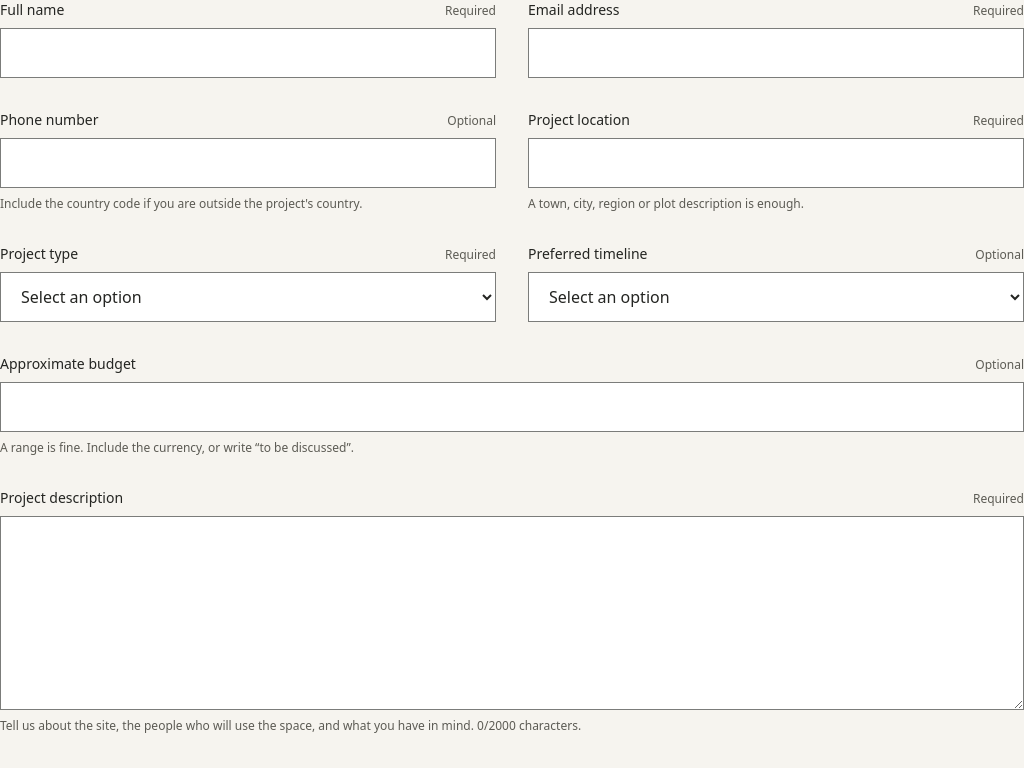
it: ContactForm with a submission service › reports a service error honestly and keeps the visitor's answers
Type "Amina Otieno" into the field labelled "Full name Required" at (248, 53), box [0,28,496,78]
Type "amina@example.com" into the field labelled "Email address Required" at (776, 53), box [528,28,1023,78]
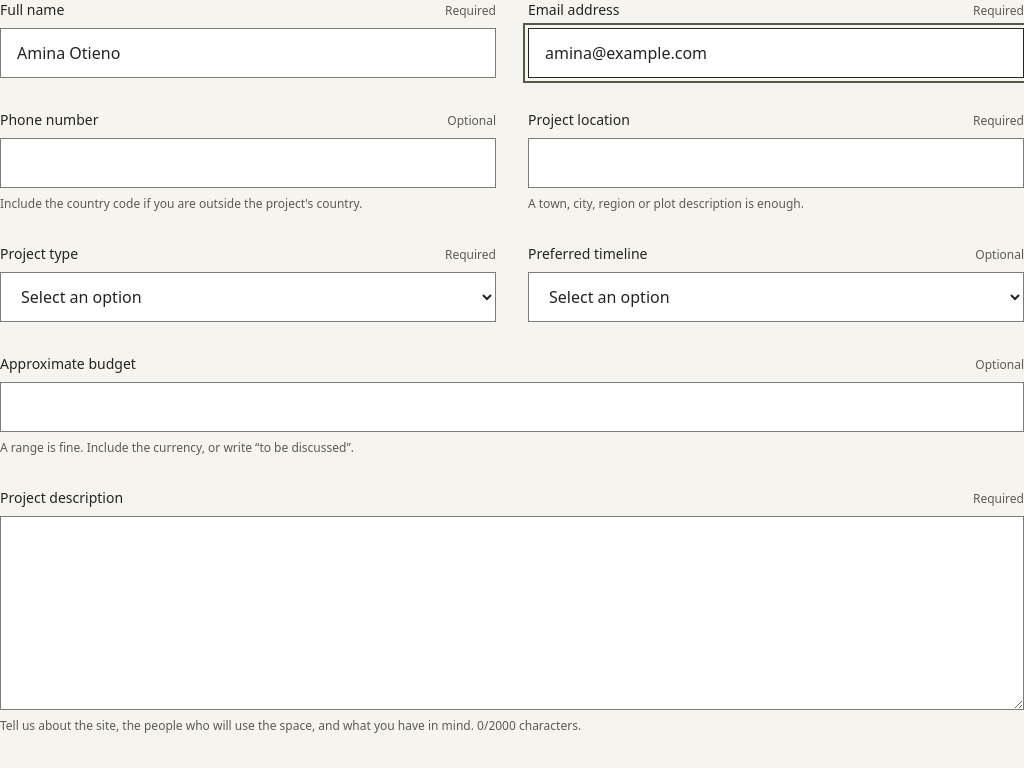
Type "Nairobi" into the field labelled "Project location Required" at (776, 163), box [528,138,1023,188]
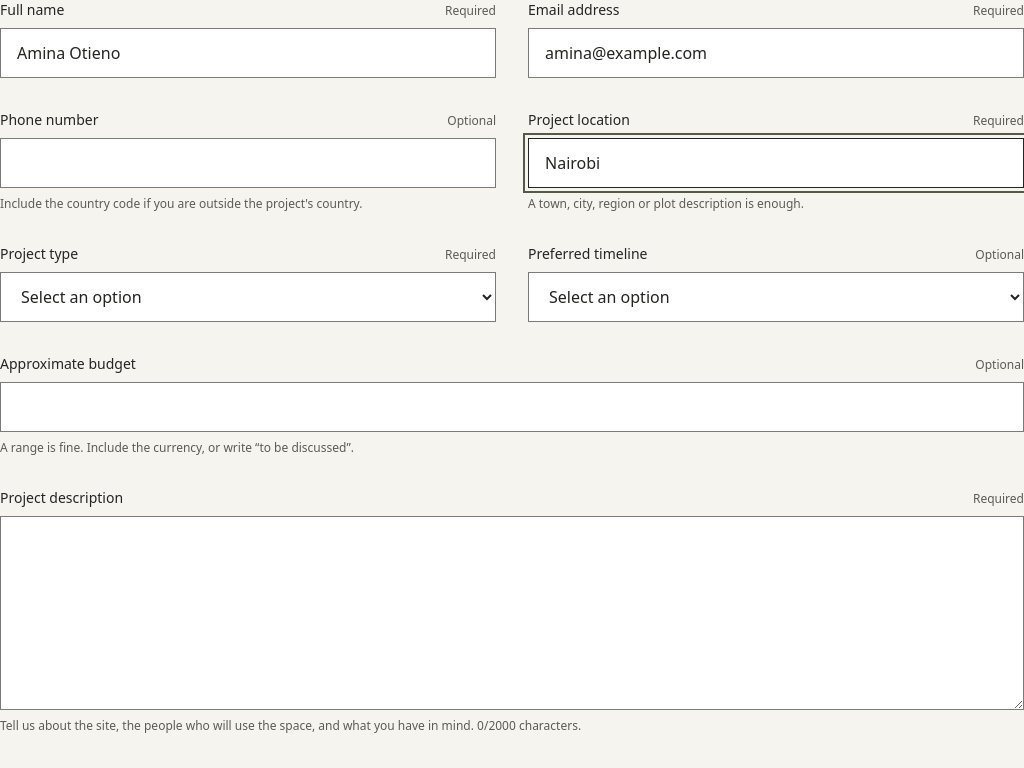
Select "Residential" in the dropdown labelled "Project type Required" at (248, 297), box [0,272,496,322]
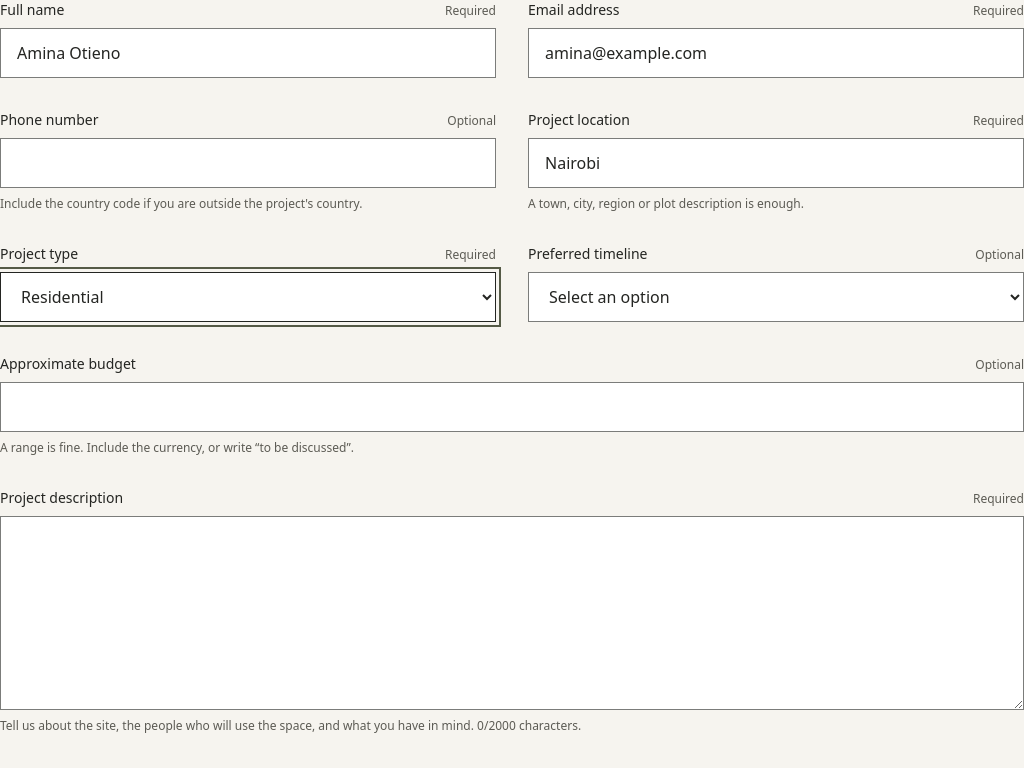
Type "A family home on a gently sloping plot." into the text box labelled "Project description Required" at (512, 613), box [0,516,1023,710]
(page scrolled)
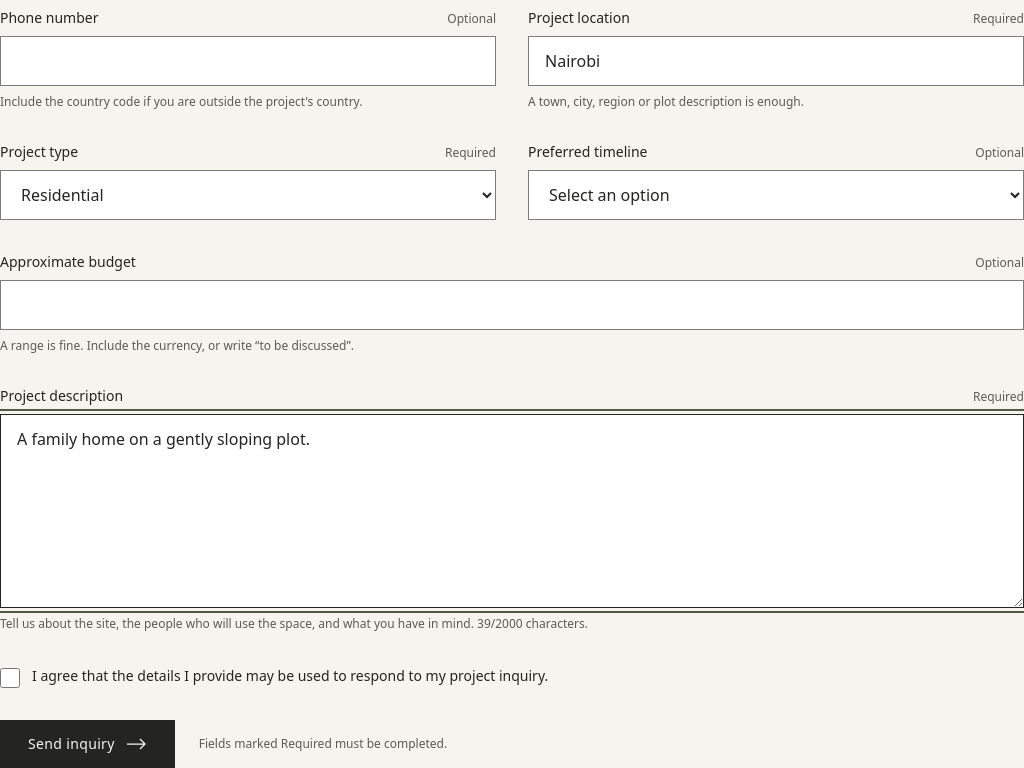
Click the checkbox labelled "I agree" at (10, 678), box [0,668,20,688]
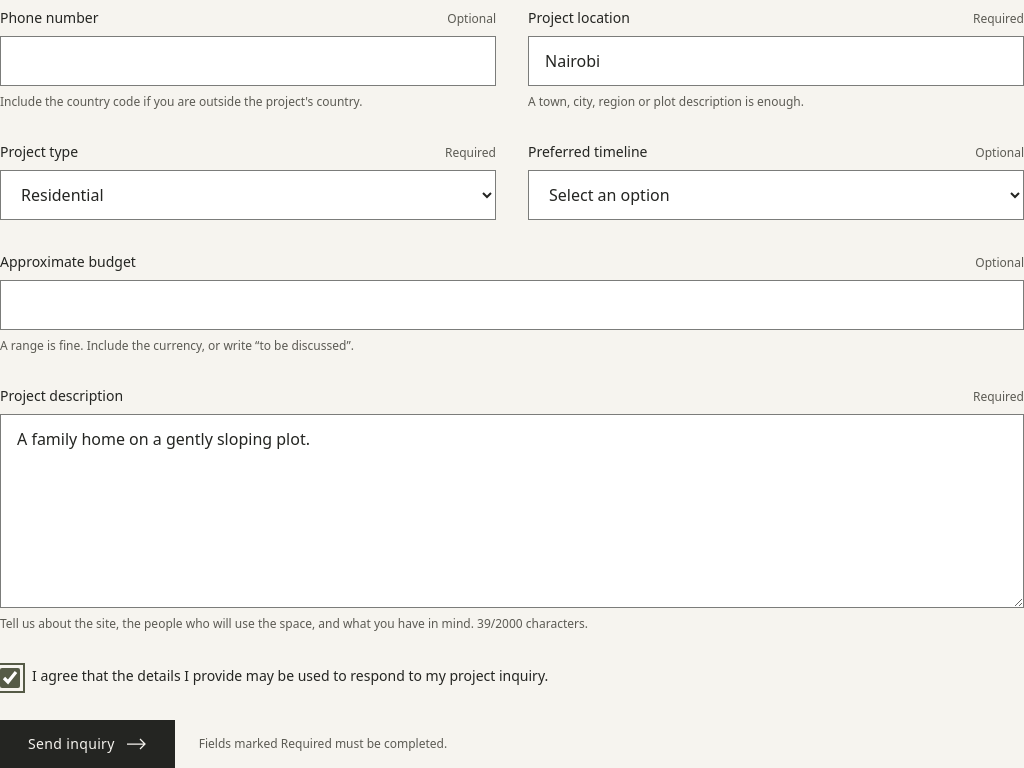
Click the button "Send inquiry" at (87, 744), box [0,720,175,767]
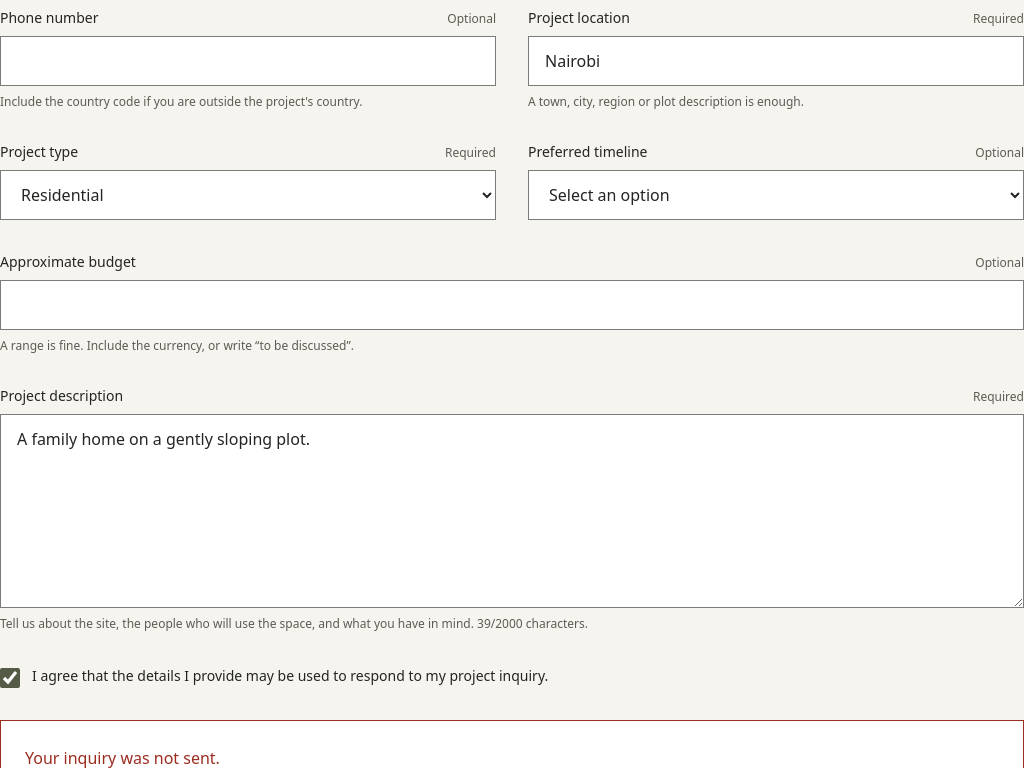
Now the text "Your inquiry was not sent." is shown, box [25,747,220,767]
